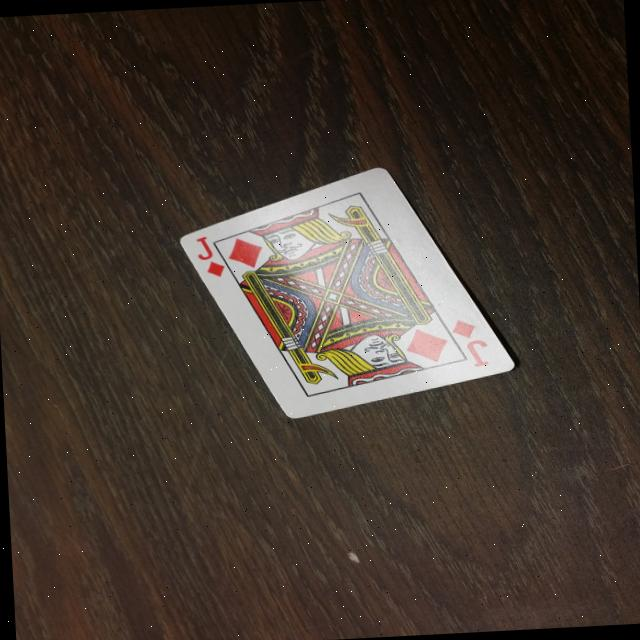Jd: (444, 312, 496, 374), (186, 229, 238, 285)
